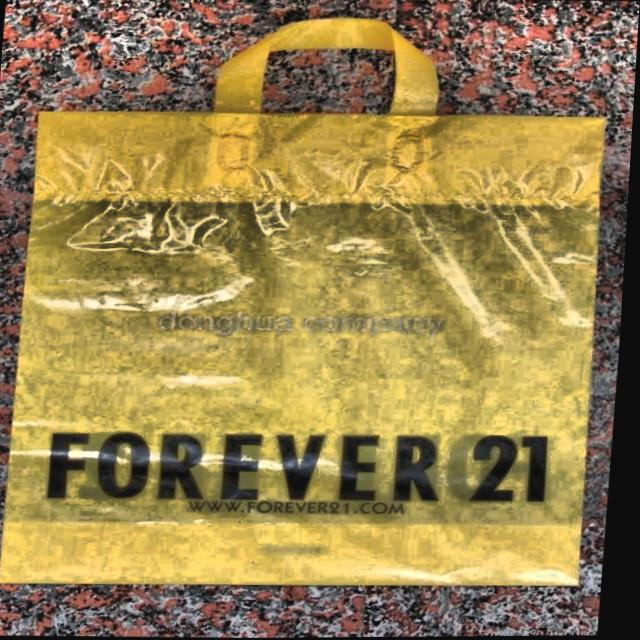Plastic: (0, 0, 634, 603)
